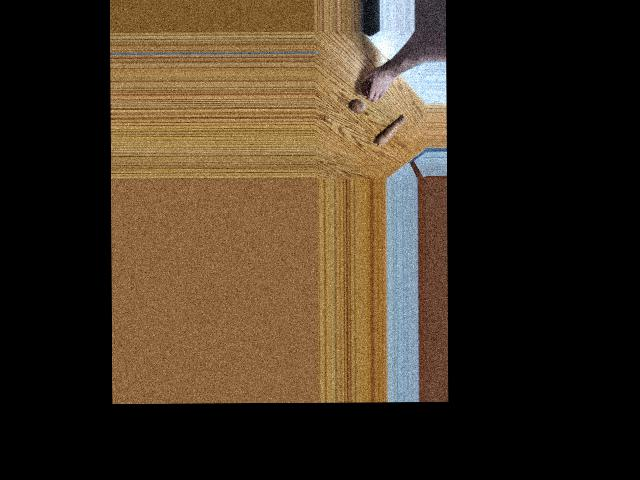onion: (362, 81, 376, 96)
